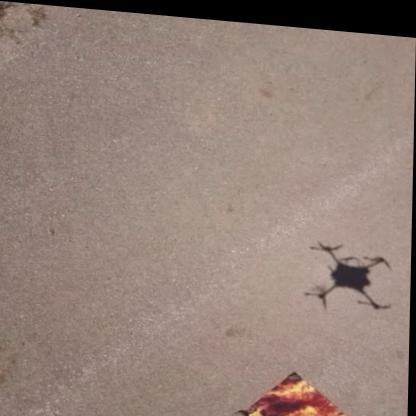fire-poster: (233, 360, 369, 416)
